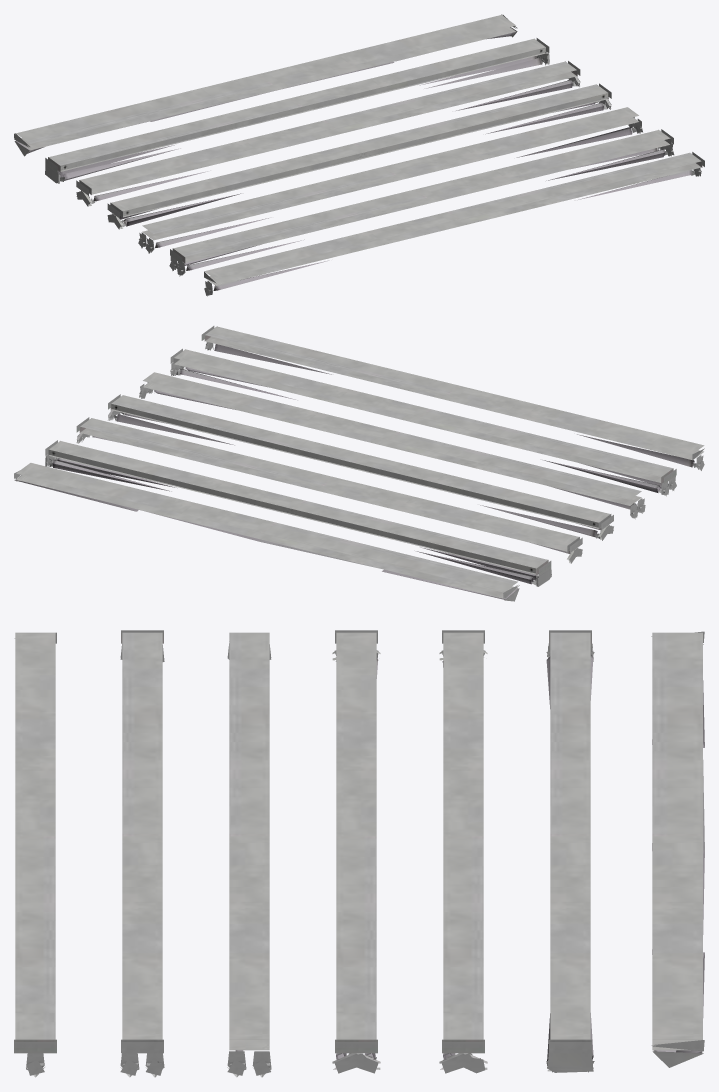
File: mounted_fluorescent_lights.glb
The picture shows the model from 3 angles, top to bottom: view 1: azimuth 30°, elevation 25°; view 2: azimuth 150°, elevation 25°; view 3: azimuth 270°, elevation 25°; orthographic projection. The views are drawn at different scales.
Parts seen in each view (by area): view 1: mounted_fluorescent_lights_f, mounted_fluorescent_lights_g, mounted_fluorescent_lights_b, mounted_fluorescent_lights_d, mounted_fluorescent_lights_e, mounted_fluorescent_lights_c, mounted_fluorescent_lights_a; view 2: mounted_fluorescent_lights_g, mounted_fluorescent_lights_f, mounted_fluorescent_lights_b, mounted_fluorescent_lights_d, mounted_fluorescent_lights_a, mounted_fluorescent_lights_c, mounted_fluorescent_lights_e; view 3: mounted_fluorescent_lights_g, mounted_fluorescent_lights_f, mounted_fluorescent_lights_d, mounted_fluorescent_lights_b, mounted_fluorescent_lights_e, mounted_fluorescent_lights_c, mounted_fluorescent_lights_a.
Part boxes in pixels (x1,y1,x2,y2): mounted_fluorescent_lights_f: (45,38,549,183); mounted_fluorescent_lights_g: (14,14,517,156); mounted_fluorescent_lights_b: (169,129,674,276); mounted_fluorescent_lights_d: (107,83,611,229); mounted_fluorescent_lights_e: (76,61,580,206); mounted_fluorescent_lights_c: (138,107,642,253); mounted_fluorescent_lights_a: (204,152,704,296); mounted_fluorescent_lights_g: (14,463,519,601); mounted_fluorescent_lights_f: (45,440,551,586); mounted_fluorescent_lights_b: (170,348,676,496); mounted_fluorescent_lights_d: (107,394,613,540); mounted_fluorescent_lights_a: (201,326,704,470); mounted_fluorescent_lights_c: (139,372,645,519); mounted_fluorescent_lights_e: (76,417,582,563); mounted_fluorescent_lights_g: (651,631,704,1067); mounted_fluorescent_lights_f: (546,630,594,1072); mounted_fluorescent_lights_d: (332,630,380,1073); mounted_fluorescent_lights_b: (120,630,164,1077); mounted_fluorescent_lights_e: (439,630,487,1073); mounted_fluorescent_lights_c: (227,632,271,1077); mounted_fluorescent_lights_a: (14,632,56,1077).
Size of the model in its own units: 0.9122 by 0.0365 by 0.6457.
2 materials, 2 textured.
